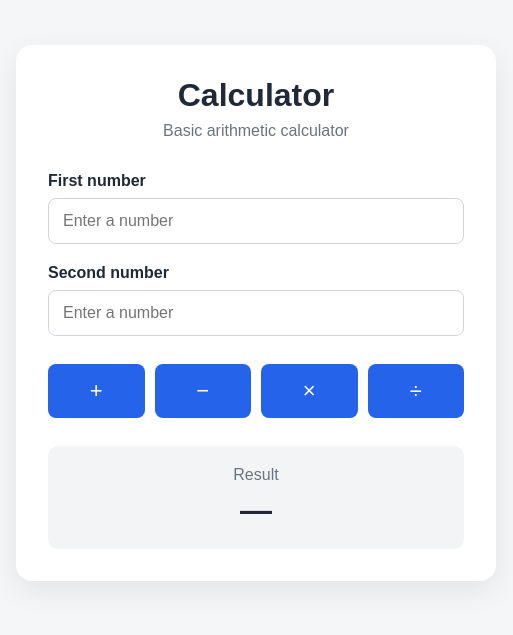
Test: Calculator › shows an error when the backend returns an error
The width and height of the screenshot is (513, 635).
Type "10" into the number field labelled "First number" at [256, 221], box x1=48 y1=198 x2=464 y2=244
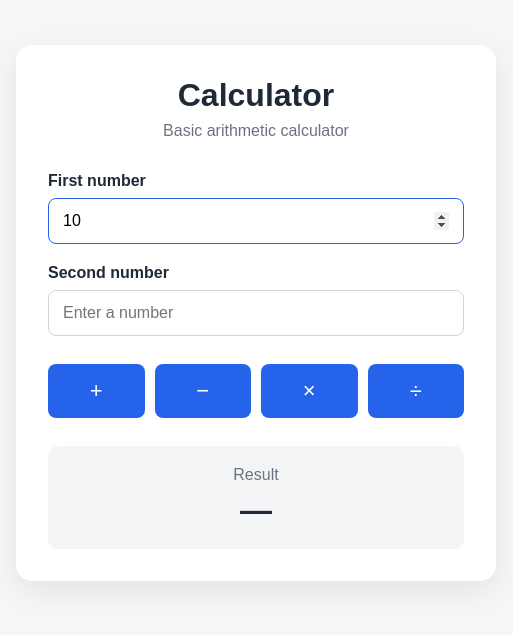
Type "5" into the number field labelled "Second number" at [256, 313], box x1=48 y1=290 x2=464 y2=336
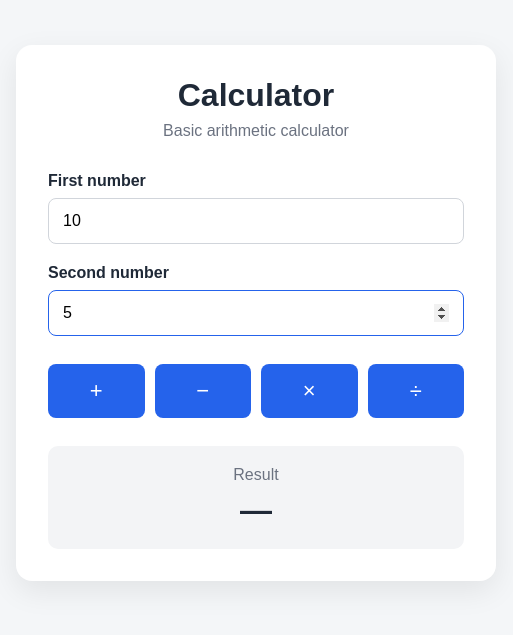
Click the button "+" at [96, 391], box x1=48 y1=364 x2=144 y2=418
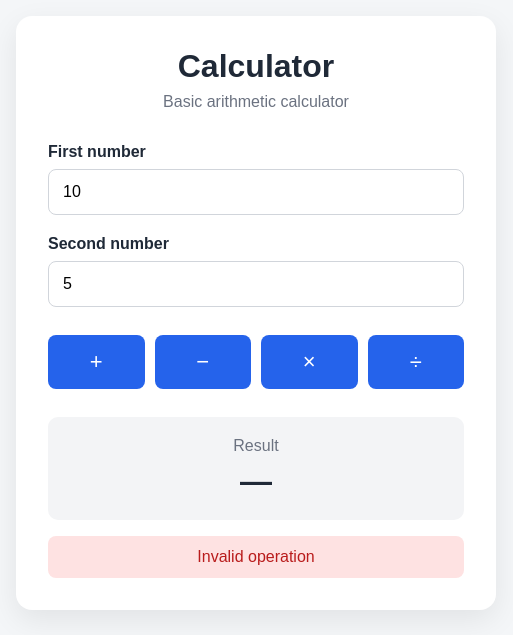
Now the text "Invalid operation" is shown, box x1=48 y1=536 x2=464 y2=578
